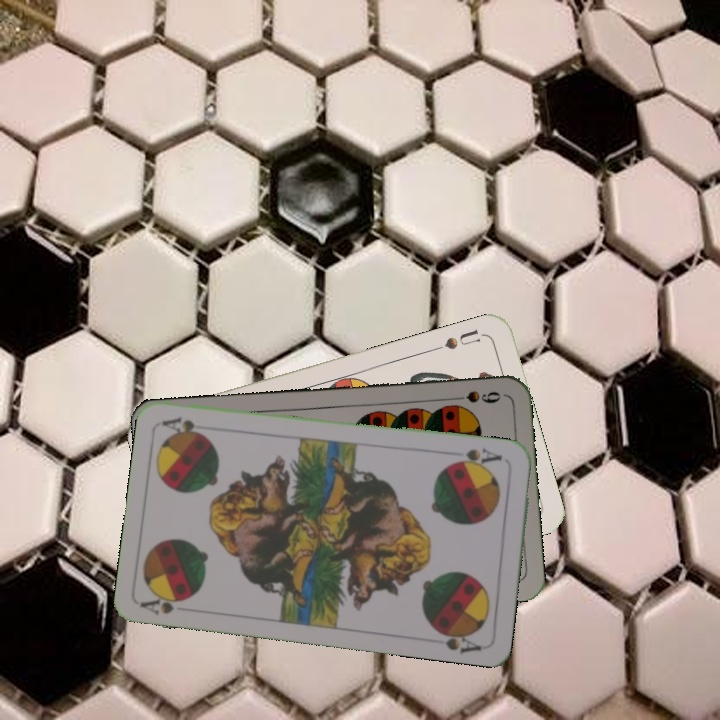S9: (445, 386, 504, 406)
SA: (138, 589, 193, 617), (448, 444, 505, 471)
SU: (429, 325, 483, 354)
